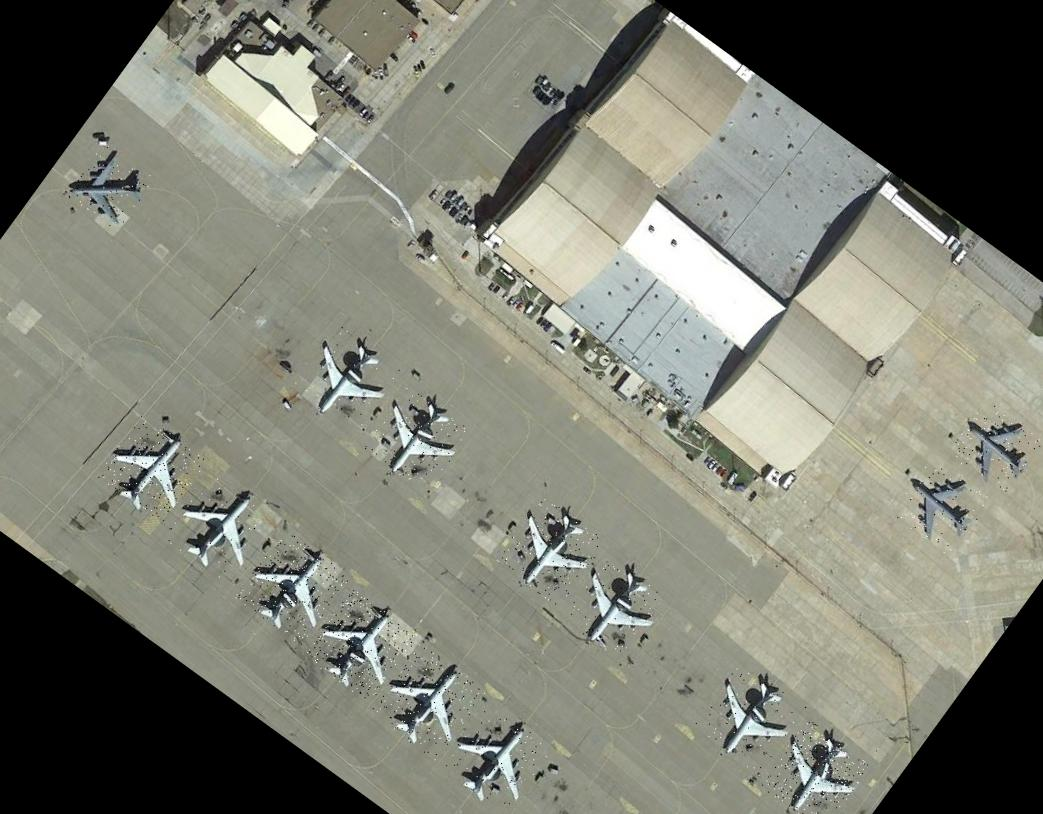A11: (96, 413, 206, 523)
A14: (888, 454, 993, 558), (946, 399, 1043, 495), (63, 140, 154, 232)
A7: (368, 642, 486, 760), (234, 528, 350, 645), (302, 588, 418, 704), (690, 660, 805, 775), (162, 470, 276, 584), (492, 494, 606, 607), (288, 323, 401, 436), (440, 701, 552, 814), (361, 384, 472, 494), (560, 552, 670, 662), (757, 718, 870, 814)
